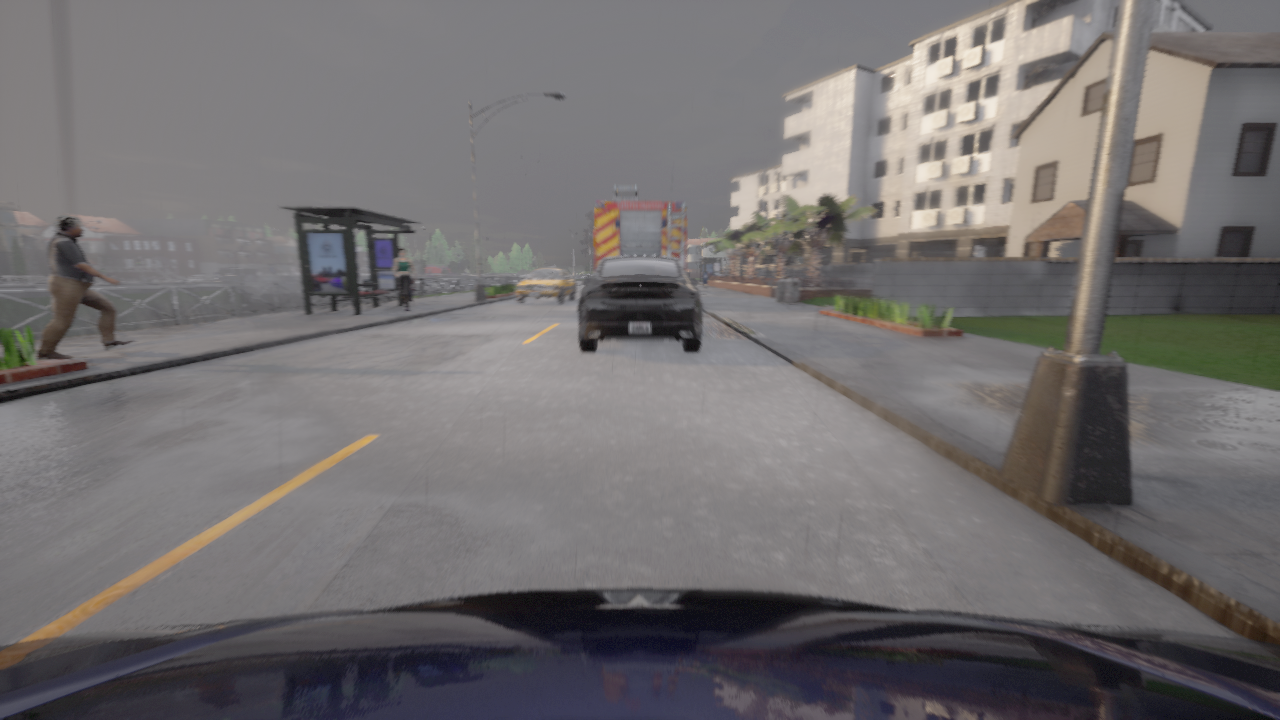cyclist: (0, 588, 1279, 719), (578, 254, 701, 351), (594, 185, 686, 273), (515, 264, 575, 303)
pedestrian: (37, 215, 134, 359), (393, 247, 415, 311), (410, 279, 415, 309)
